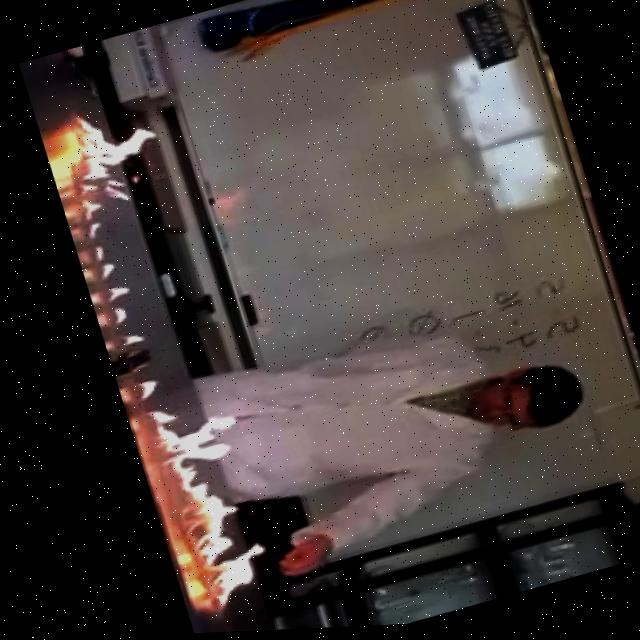Fire: (137, 386, 286, 623), (45, 94, 180, 223)
